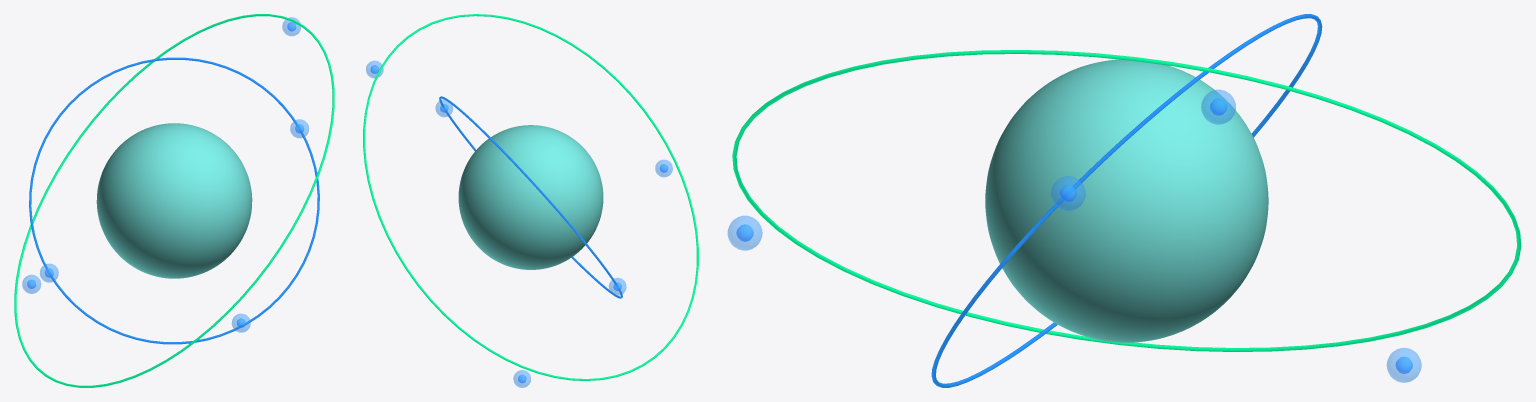
3 renders of one model, left to right at view 1: azimuth 30°, elevation 25°; view 2: azimuth 150°, elevation 25°; view 3: azimuth 270°, elevation 25°, orthographic. The views are drawn at different scales.
Visible parts, largest first — view 1: B, object 7, object 2, object 10, object 3, object 5, object 8; view 2: B, object 7, object 2; view 3: B, object 7, object 2, object 8, object 10, object 12, object 5.
Boxes of the visible parts, <box> form: B: <box>96,123,252,278</box>; object 7: <box>14,14,334,387</box>; object 2: <box>29,57,319,344</box>; object 10: <box>22,274,41,293</box>; object 3: <box>39,263,58,282</box>; object 5: <box>290,119,309,138</box>; object 8: <box>231,313,250,332</box>; B: <box>458,125,603,269</box>; object 7: <box>363,14,698,380</box>; object 2: <box>439,96,622,298</box>; B: <box>985,59,1268,342</box>; object 7: <box>732,50,1521,351</box>; object 2: <box>931,14,1322,387</box>; object 8: <box>727,215,762,250</box>; object 10: <box>1386,348,1421,382</box>; object 12: <box>1201,89,1235,124</box>; object 5: <box>1050,176,1085,210</box>.
Size of the model in its own units: 2.71 by 2.63 by 3.62.
